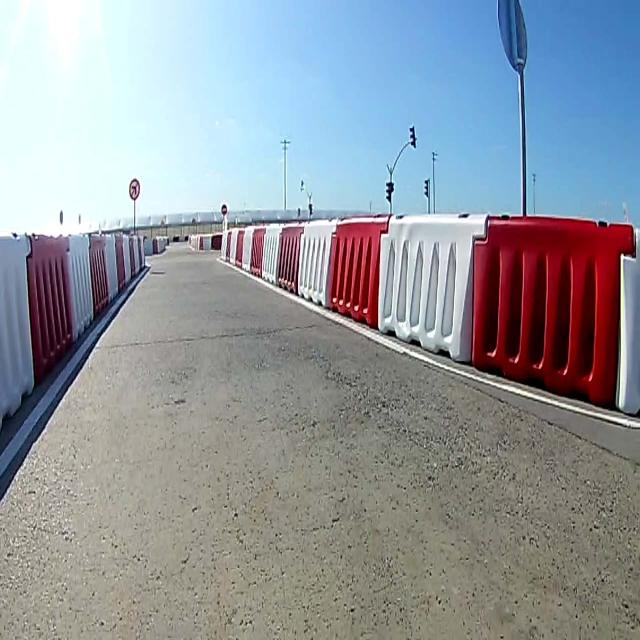soladonulmez: (129, 177, 140, 200)
